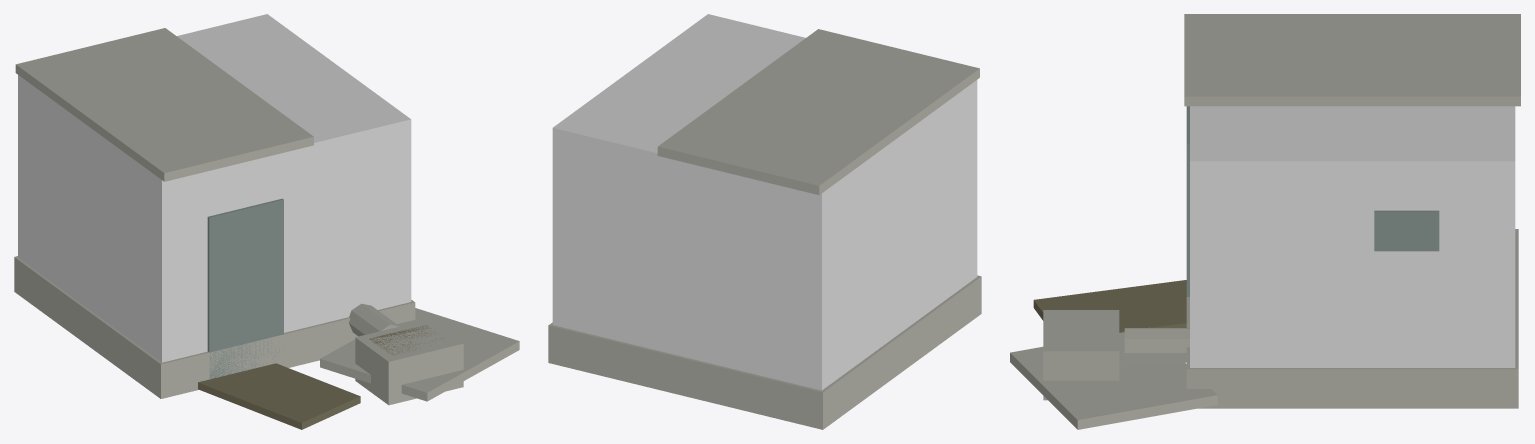
Rendered from SM_CasetaPozo_v3_Abandonada_LOD1.fbx.
3 renders of one model, left to right at view 1: azimuth 30°, elevation 25°; view 2: azimuth 150°, elevation 25°; view 3: azimuth 270°, elevation 25°, orthographic. The views are drawn at different scales.
Parts seen in each view (by area): view 1: SM_huerta_nules_v3_LOD1; view 2: SM_huerta_nules_v3_LOD1; view 3: SM_huerta_nules_v3_LOD1.
Boxes of the visible parts, <box> form: SM_huerta_nules_v3_LOD1: <box>14,14,519,429</box>; SM_huerta_nules_v3_LOD1: <box>548,14,981,429</box>; SM_huerta_nules_v3_LOD1: <box>1010,14,1520,429</box>.
Size of the model in its own units: 3.74 by 2.6 by 4.71.
